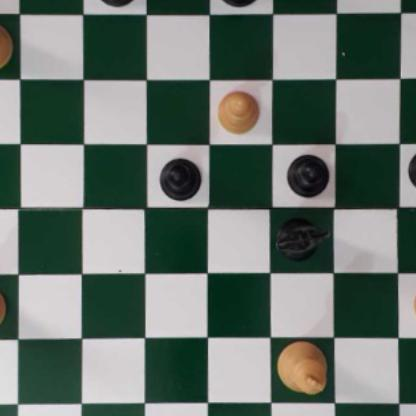black-king: (213, 0, 265, 9)
black-knight: (276, 215, 332, 263)
black-pawn: (156, 157, 203, 201), (286, 151, 329, 197), (406, 147, 416, 192)
black-rook: (88, 0, 143, 7)
white-bishop: (0, 284, 9, 334)
white-king: (277, 341, 329, 395)
white-pawn: (215, 87, 260, 135), (410, 281, 416, 328)
white-rook: (0, 14, 14, 71)
